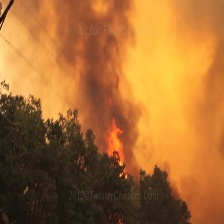fire: (104, 117, 128, 177)
